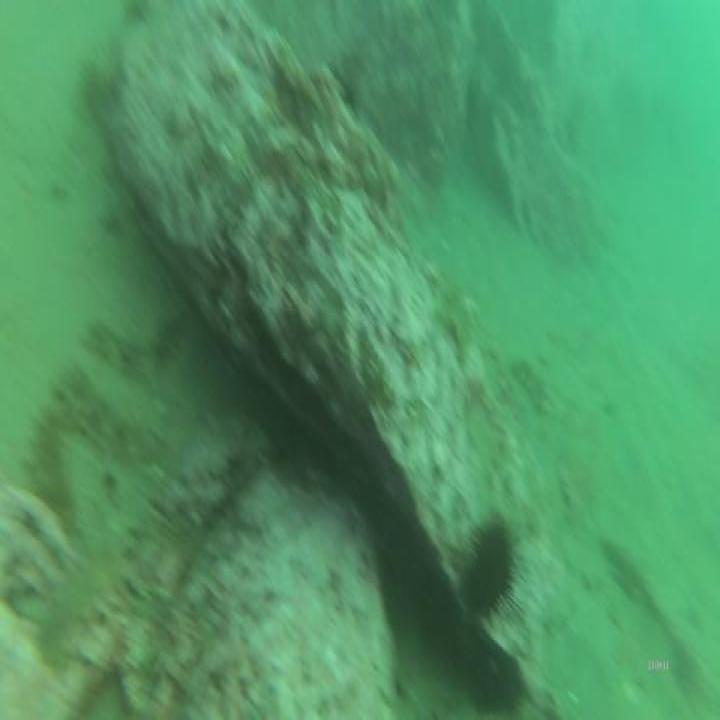echinus: (462, 503, 530, 635)
holothurian: (54, 354, 160, 476), (34, 544, 115, 656), (86, 304, 189, 382), (32, 409, 75, 544)
